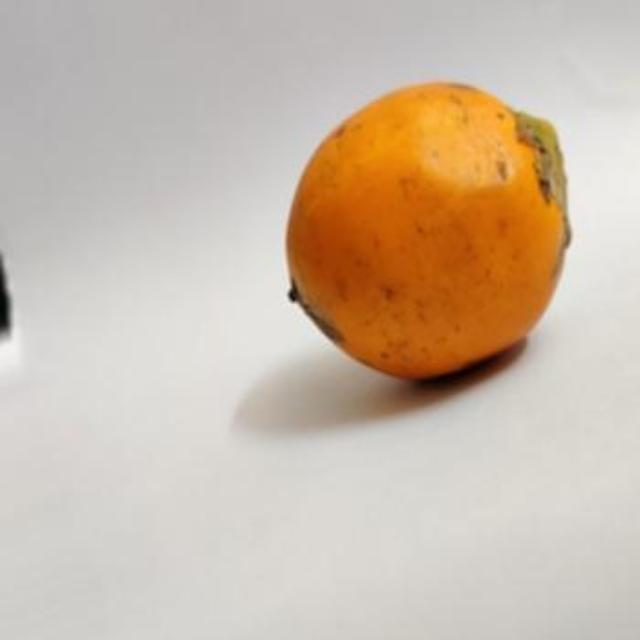good: (283, 82, 572, 384)
